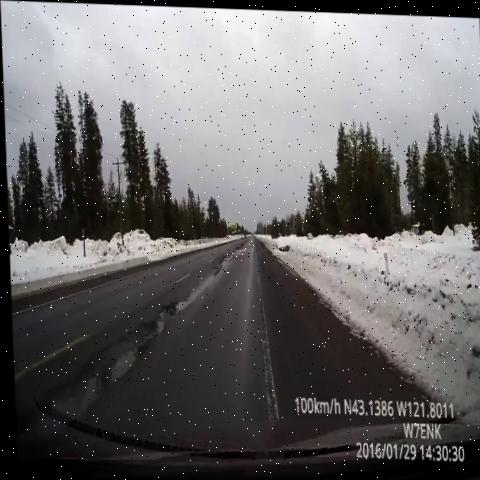pothole: (213, 241, 239, 272), (229, 237, 251, 254)
